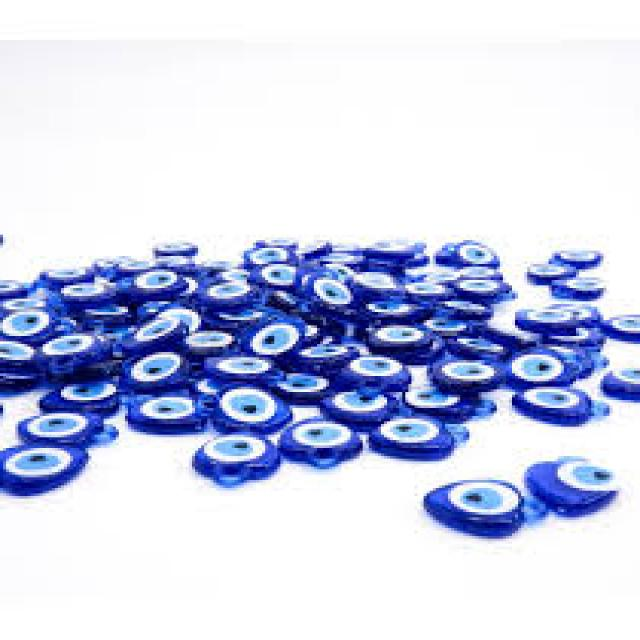Nazar-Boncugu: (427, 477, 549, 539), (0, 448, 88, 499)
